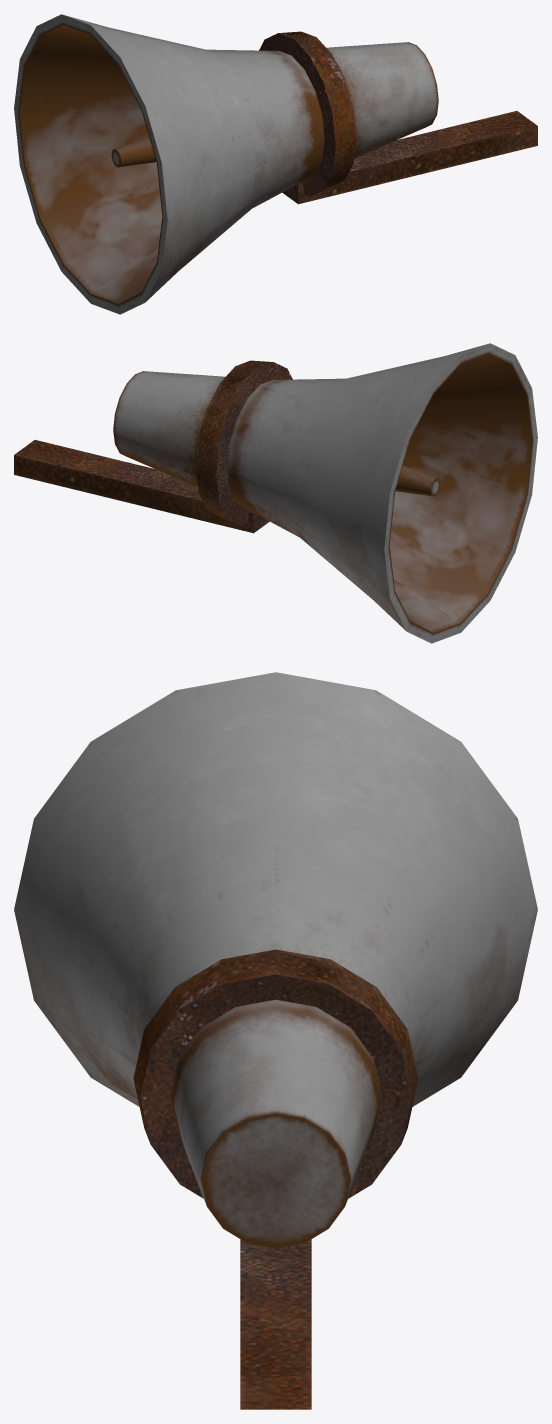
Rendered from Speaker.fbx.
The picture shows the model from 3 angles, top to bottom: view 1: azimuth 30°, elevation 25°; view 2: azimuth 150°, elevation 25°; view 3: azimuth 270°, elevation 25°; orthographic projection. The views are drawn at different scales.
Parts seen in each view (by area): view 1: Speaker; view 2: Speaker; view 3: Speaker.
Boxes of the visible parts, x1,y1,x2,y2 form: Speaker: (14,14,537,314); Speaker: (14,343,537,643); Speaker: (14,672,537,1409).
Bounding box in the file's own units: 0.4026 × 0.2454 × 0.2454.
